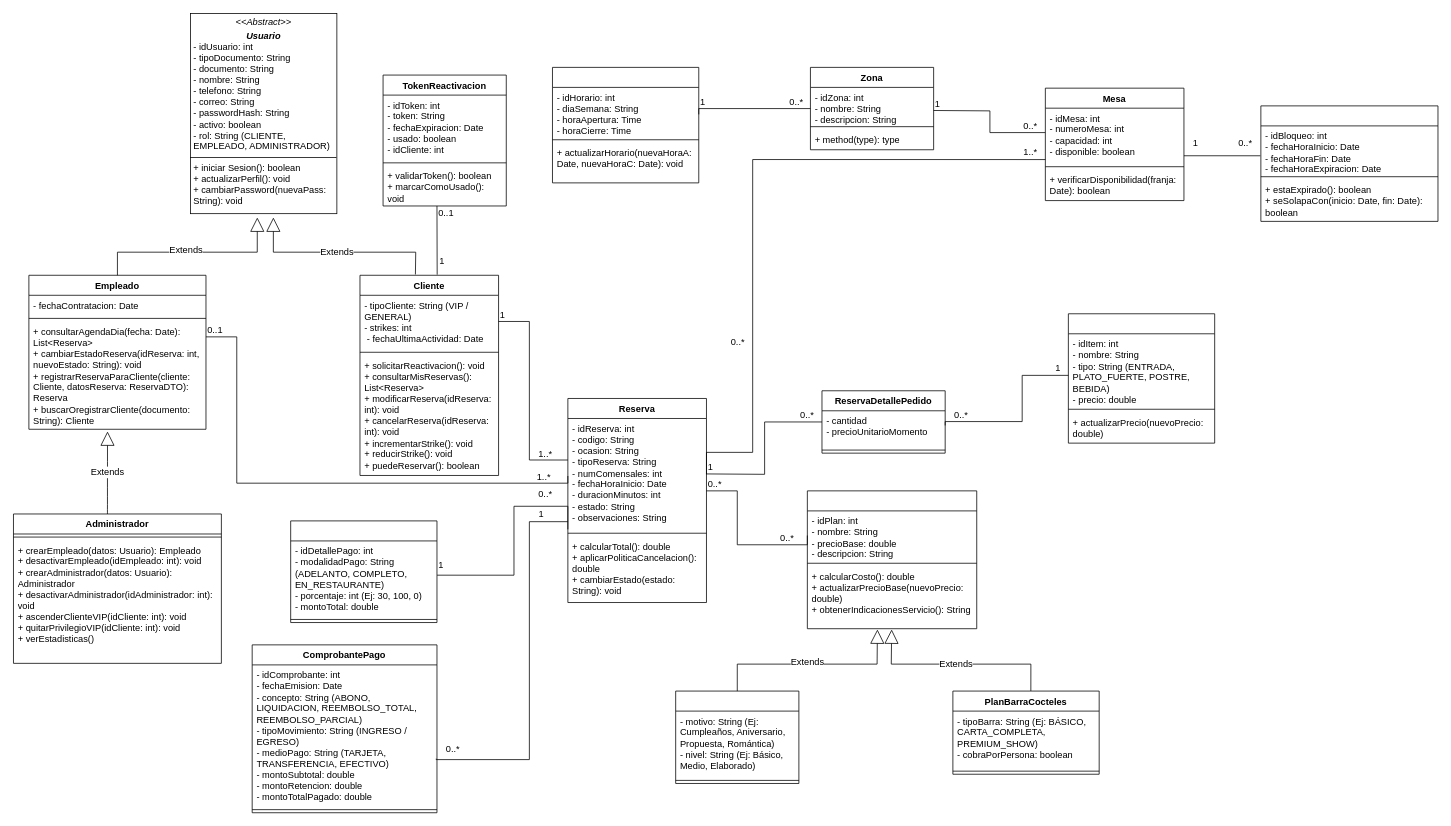
Some shapes in this 1451 by 826 pixel diagram are drawn without their labels. Each missing label, with the box of its shape:
BloqueoMesa: (1260, 105, 1438, 221)
DetallePedido: (290, 520, 437, 623)
HorarioAtencion: (552, 67, 699, 183)
ItemMenu: (1068, 313, 1215, 443)
PlanDecoracion: (675, 690, 799, 783)
PlanServicioExtra: (807, 490, 977, 629)
